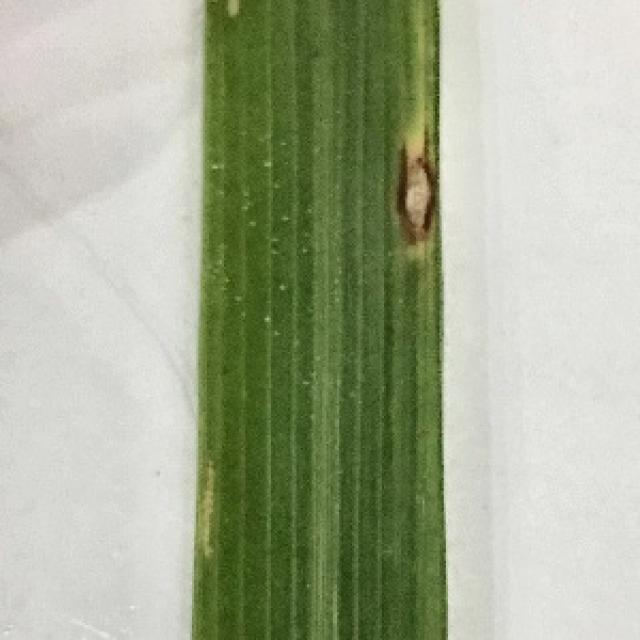Leaf_Blast: (373, 117, 442, 252)
